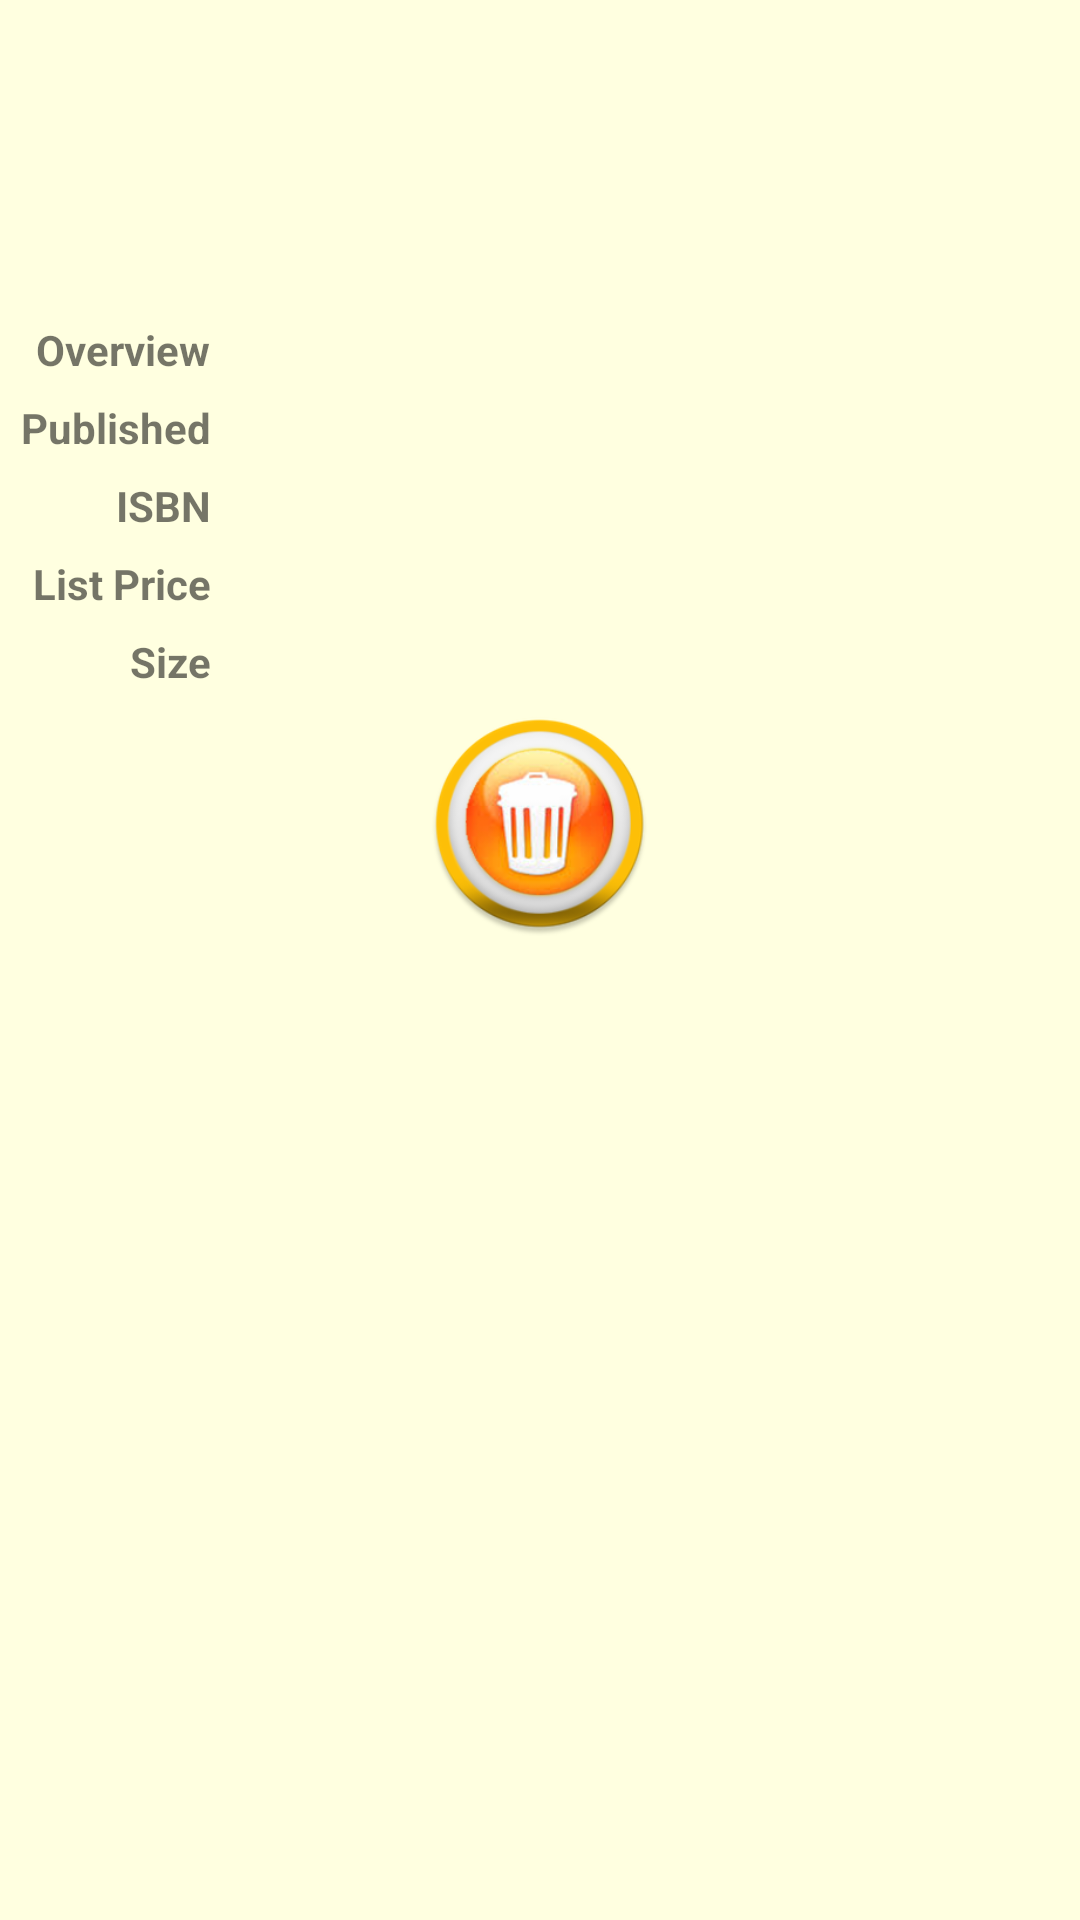

Icons on this 1080 x 1920 Android screen, each with the point to tap as point (x, y):
delete: point (539, 825)
